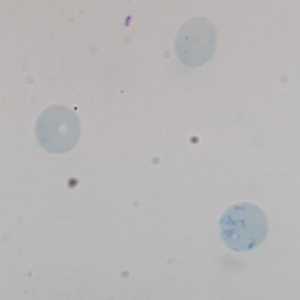aggregate reticulocyte: (217, 201, 270, 253)
erythrocyte: (32, 103, 83, 156)
punctate reticulocyte: (172, 15, 219, 69)
